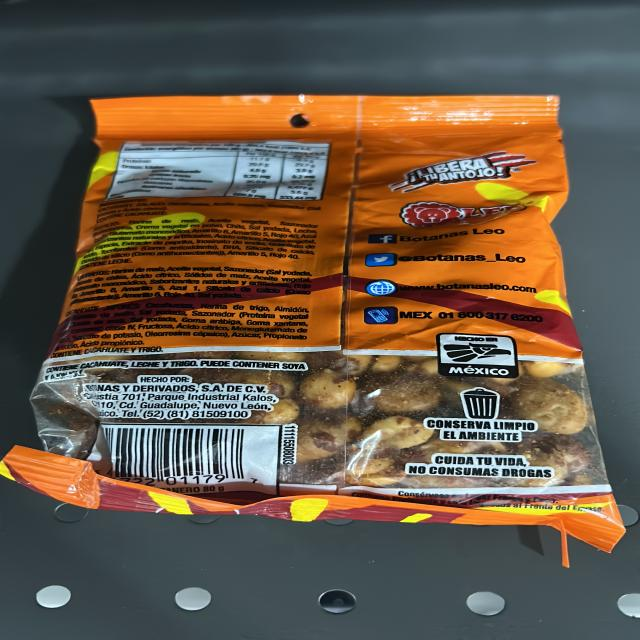leoCacahuates: (73, 128, 551, 488)
